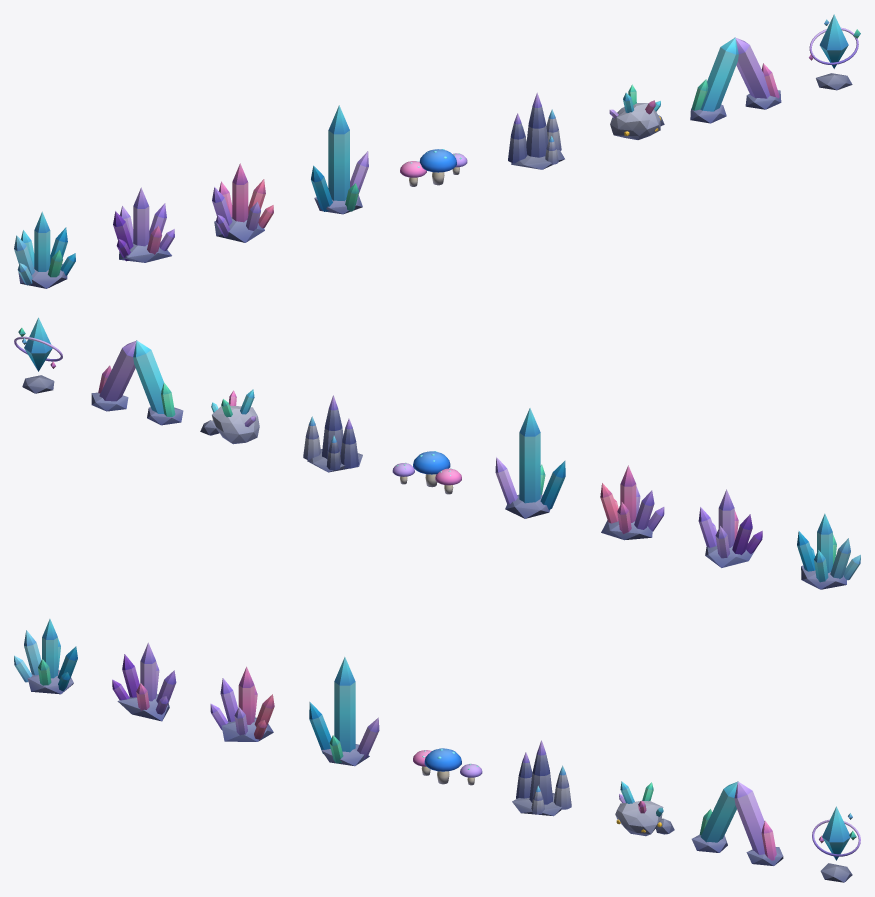
Rendered from CrystalProps.fbx.
The picture shows the model from 3 angles, top to bottom: view 1: azimuth 30°, elevation 25°; view 2: azimuth 150°, elevation 25°; view 3: azimuth 330°, elevation 25°; orthographic projection.
Visible parts, largest first — view 1: CrystalArch, CrystalSpire, CrystalClusterPink, CrystalClusterPurple, CrystalClusterCyan, Stalagmites, GemBoulder, FloatingCrystal, GlowMushrooms; view 2: CrystalArch, CrystalSpire, CrystalClusterPurple, CrystalClusterPink, CrystalClusterCyan, Stalagmites, GemBoulder, FloatingCrystal, GlowMushrooms; view 3: CrystalArch, CrystalSpire, CrystalClusterPink, CrystalClusterPurple, CrystalClusterCyan, Stalagmites, GemBoulder, FloatingCrystal, GlowMushrooms.
Boxes of the visible parts, bbox=[...] form: CrystalArch: bbox=[690, 37, 781, 123]; CrystalSpire: bbox=[311, 105, 368, 214]; CrystalClusterPink: bbox=[212, 163, 273, 242]; CrystalClusterPurple: bbox=[113, 187, 174, 262]; CrystalClusterCyan: bbox=[14, 211, 75, 288]; Stalagmites: bbox=[508, 92, 564, 169]; GemBoulder: bbox=[609, 84, 664, 139]; FloatingCrystal: bbox=[809, 14, 860, 90]; GlowMushrooms: bbox=[400, 149, 467, 186]; CrystalArch: bbox=[91, 340, 183, 425]; CrystalSpire: bbox=[495, 408, 565, 518]; CrystalClusterPurple: bbox=[698, 489, 762, 567]; CrystalClusterPink: bbox=[600, 465, 664, 540]; CrystalClusterCyan: bbox=[797, 513, 860, 589]; Stalagmites: bbox=[303, 395, 362, 472]; GemBoulder: bbox=[200, 389, 259, 444]; FloatingCrystal: bbox=[14, 317, 62, 393]; GlowMushrooms: bbox=[392, 451, 461, 494]; CrystalArch: bbox=[691, 781, 783, 865]; CrystalSpire: bbox=[309, 657, 379, 766]; CrystalClusterPink: bbox=[210, 666, 274, 741]; CrystalClusterPurple: bbox=[112, 642, 176, 721]; CrystalClusterCyan: bbox=[14, 619, 77, 694]; Stalagmites: bbox=[512, 740, 571, 816]; GemBoulder: bbox=[615, 781, 674, 836]; FloatingCrystal: bbox=[812, 806, 860, 882]; GlowMushrooms: bbox=[413, 748, 482, 785].
Size of the model in its own units: 154 by 18.5 by 9.03.
Materials: 1 (1 with a texture image).
